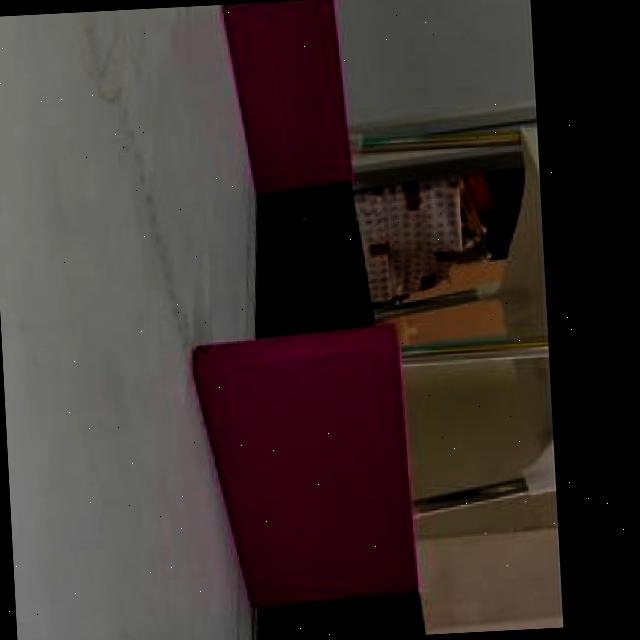xparking: (211, 332, 405, 582), (234, 0, 344, 174)
